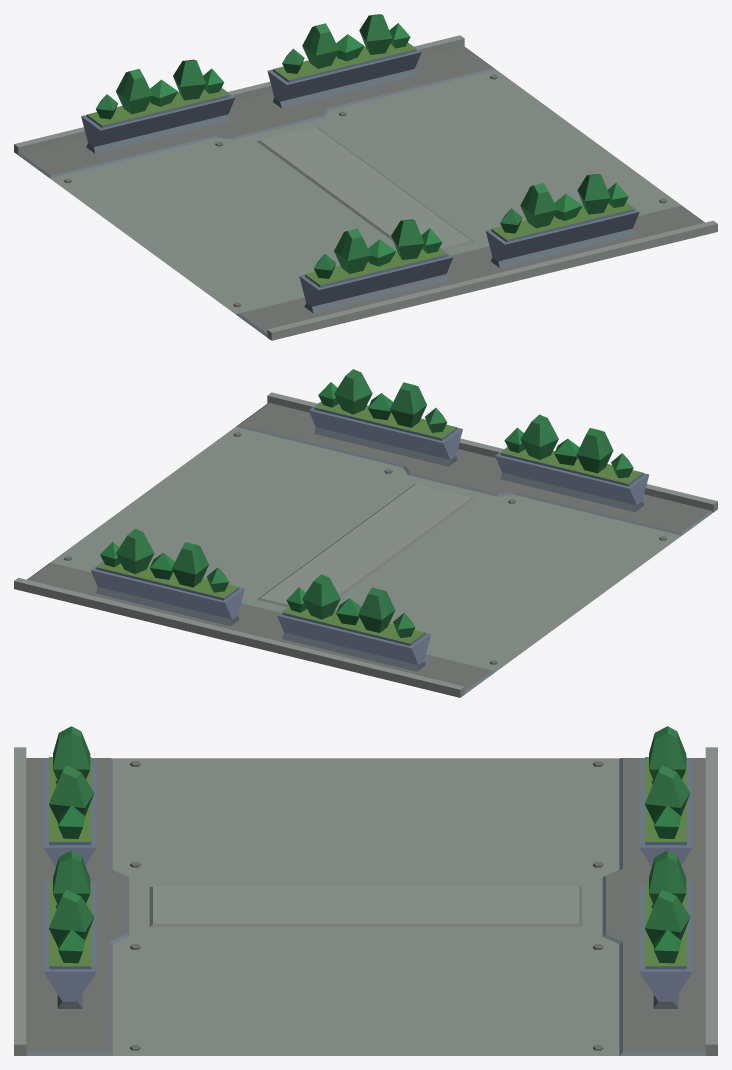
The model's file is Road_B.gltf.
3 renders of one model, top to bottom at view 1: azimuth 30°, elevation 25°; view 2: azimuth 150°, elevation 25°; view 3: azimuth 270°, elevation 25°, orthographic. The views are drawn at different scales.
Visible parts, largest first — view 1: Scifi_Panel_01 Plaza014_group4; view 2: Scifi_Panel_01 Plaza014_group4; view 3: Scifi_Panel_01 Plaza014_group4.
Boxes of the visible parts, x1=… form: Scifi_Panel_01 Plaza014_group4: x1=14, y1=14, x2=717, y2=340; Scifi_Panel_01 Plaza014_group4: x1=14, y1=369, x2=717, y2=697; Scifi_Panel_01 Plaza014_group4: x1=14, y1=726, x2=717, y2=1055.
Size of what is drawn, in the model's own units: 10 by 1.52 by 10.
Materials: 1 (1 with a texture image).
